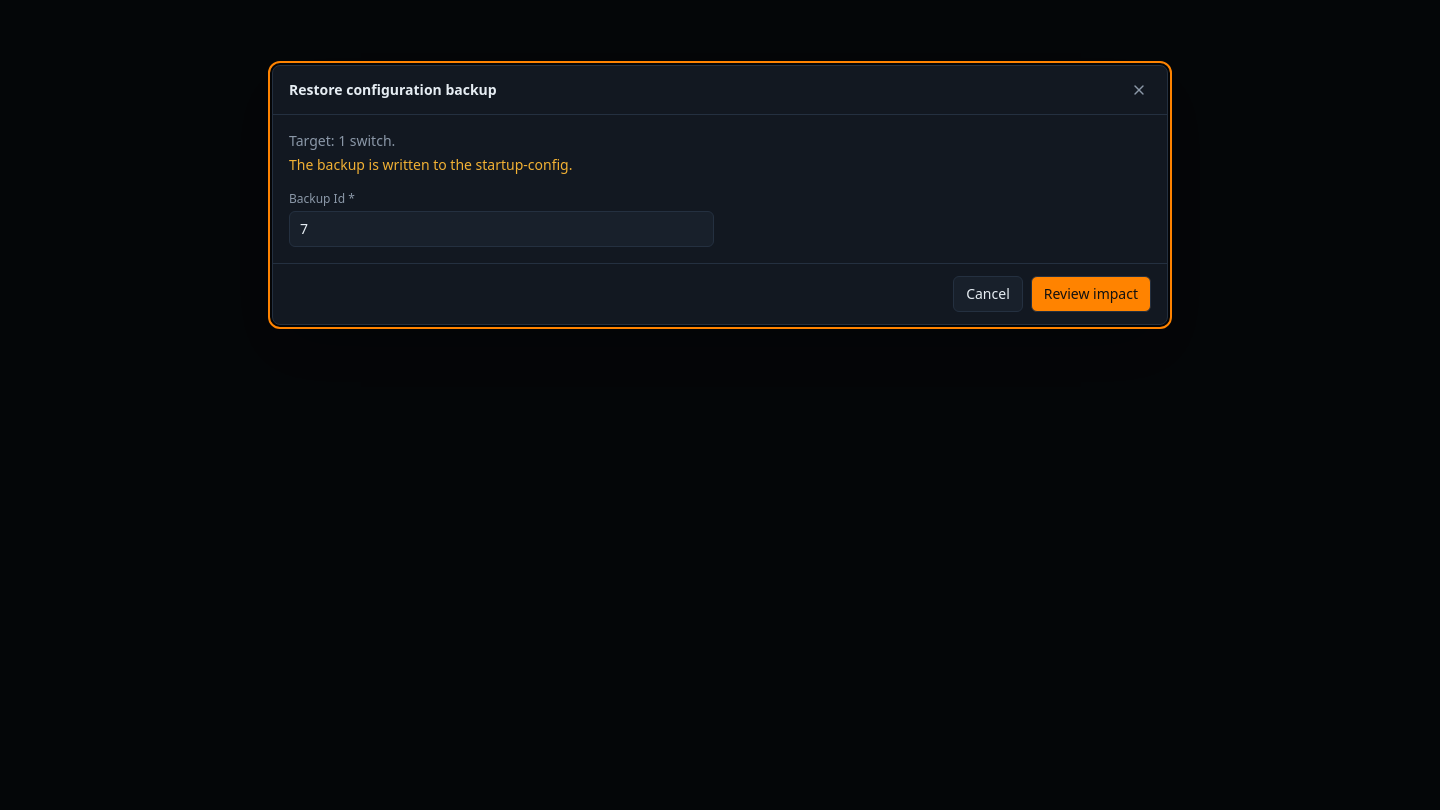
it: ChangeDialog › shows server validation errors instead of submitting
Click the button "Review impact".
click(1091, 294)  # box [1031,276,1151,312]
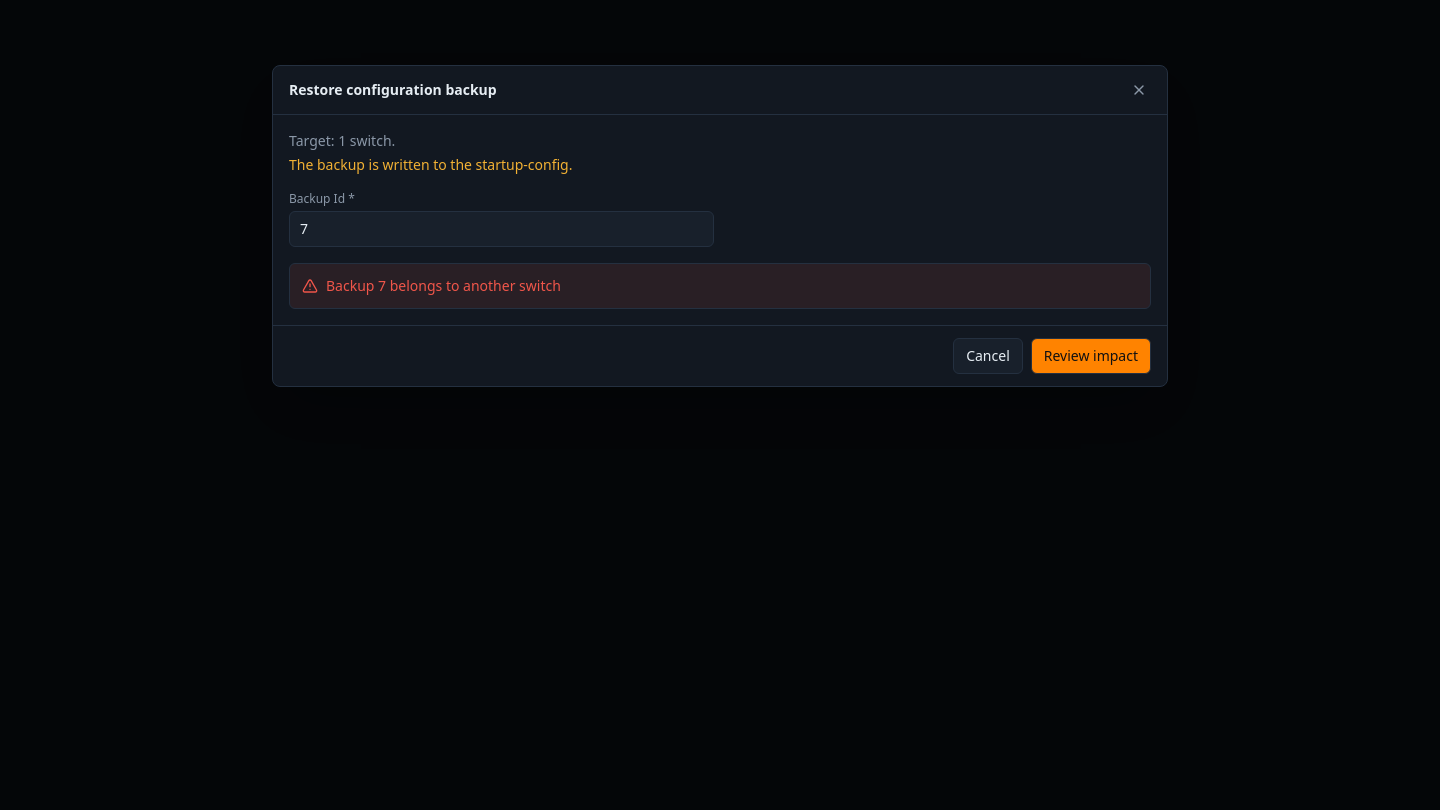
Expected: the message reads "Backup 7 belongs to another switch", [326,276,561,295]
